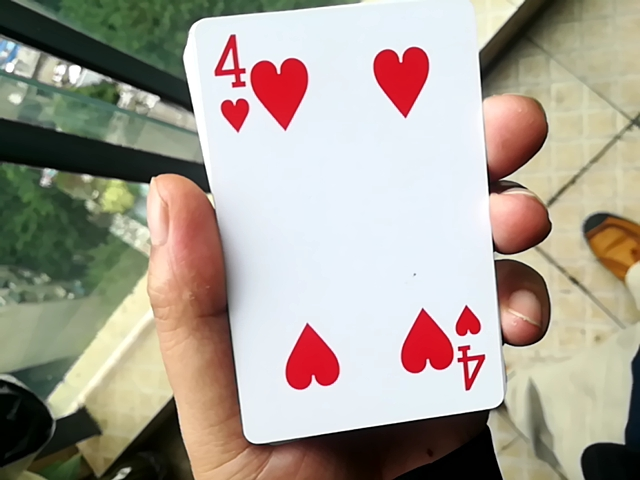hx 4: (170, 7, 497, 446)
